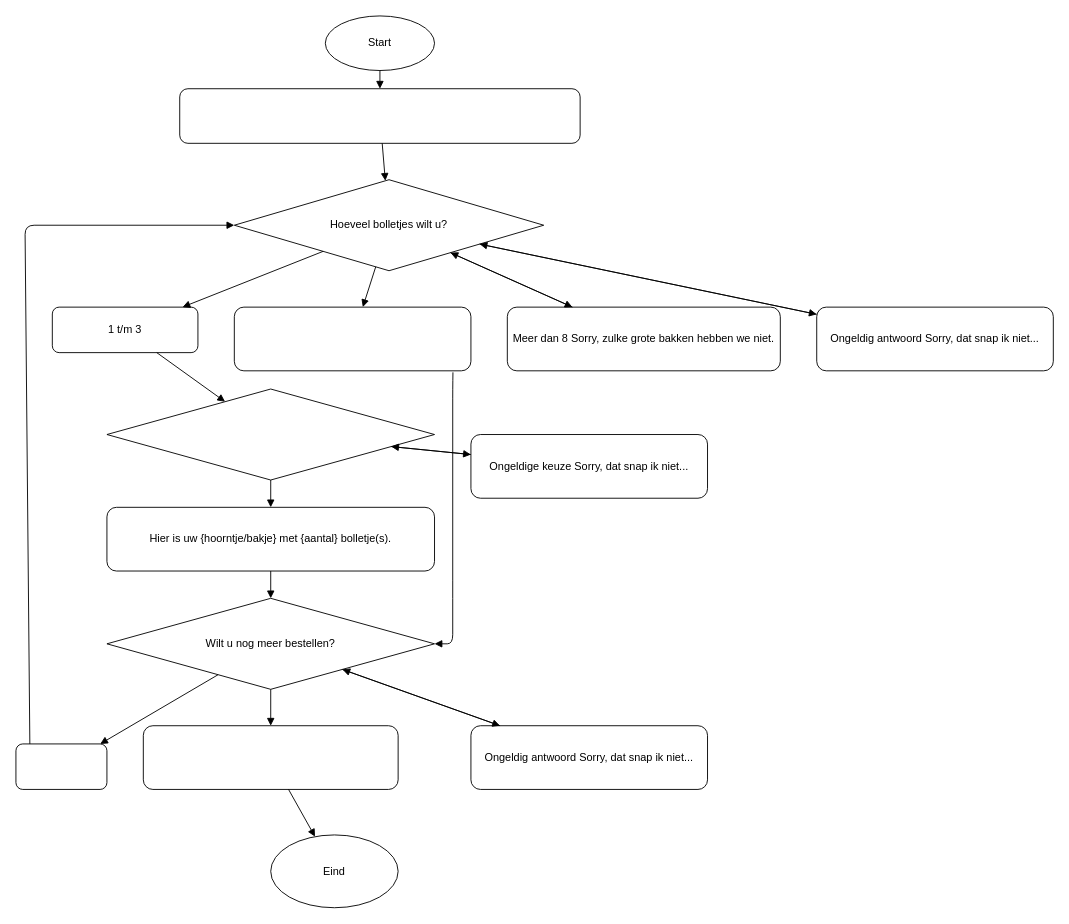
Some shapes in this 1069 by 924 pixel diagram are drawn without their labels. The centre of each missing label's shape, as x and y in pixels:
4 t/m 8 (U krijgt een bakje met {aantal} bolletjes): [352,338]
Ja: [61,766]
Nee Bedankt en tot ziens!: [270,757]
Welkom bij Papi Gelato, je mag alles kiezen zolang het maar vanille-ijs is.: [379,115]
Wilt u deze {aantal} bolletje(s) in een hoorntje of een bakje?: [270,434]
